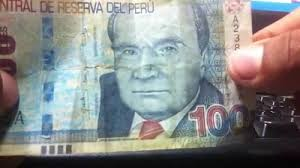billete: (1, 1, 258, 151)
